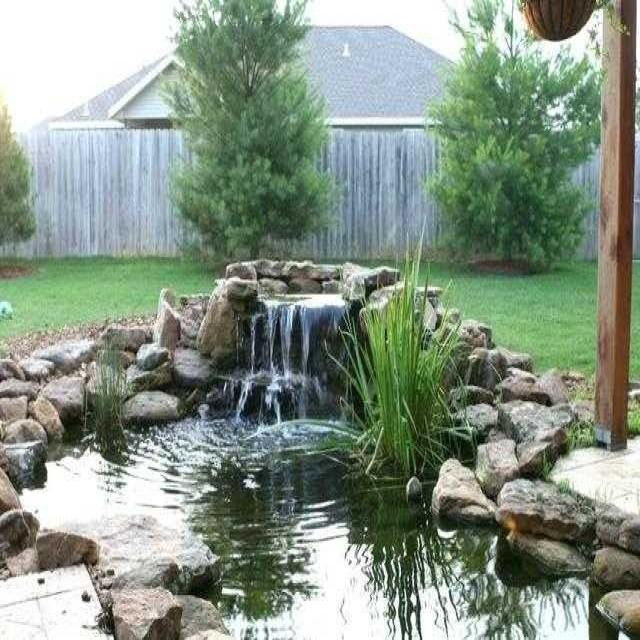Ponds: (1, 266, 640, 640)
